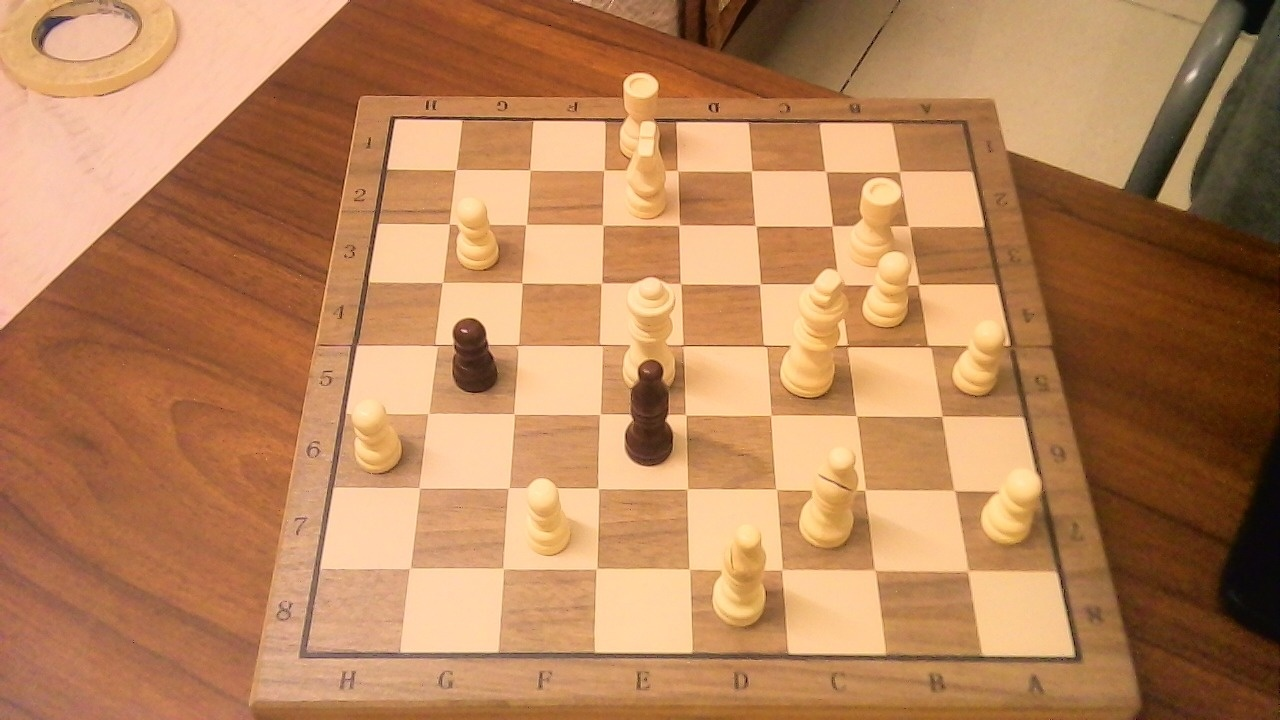B: (702, 511, 779, 631), (792, 433, 869, 552)
K: (775, 257, 856, 402)
N: (612, 110, 675, 223)
P: (974, 458, 1051, 549), (946, 310, 1014, 399), (856, 241, 921, 332), (513, 468, 577, 560), (343, 389, 410, 476), (448, 187, 506, 274)
Q: (611, 265, 686, 396)
R: (843, 166, 911, 272), (611, 62, 667, 163)
b: (613, 346, 685, 470)
p: (442, 306, 507, 396)
